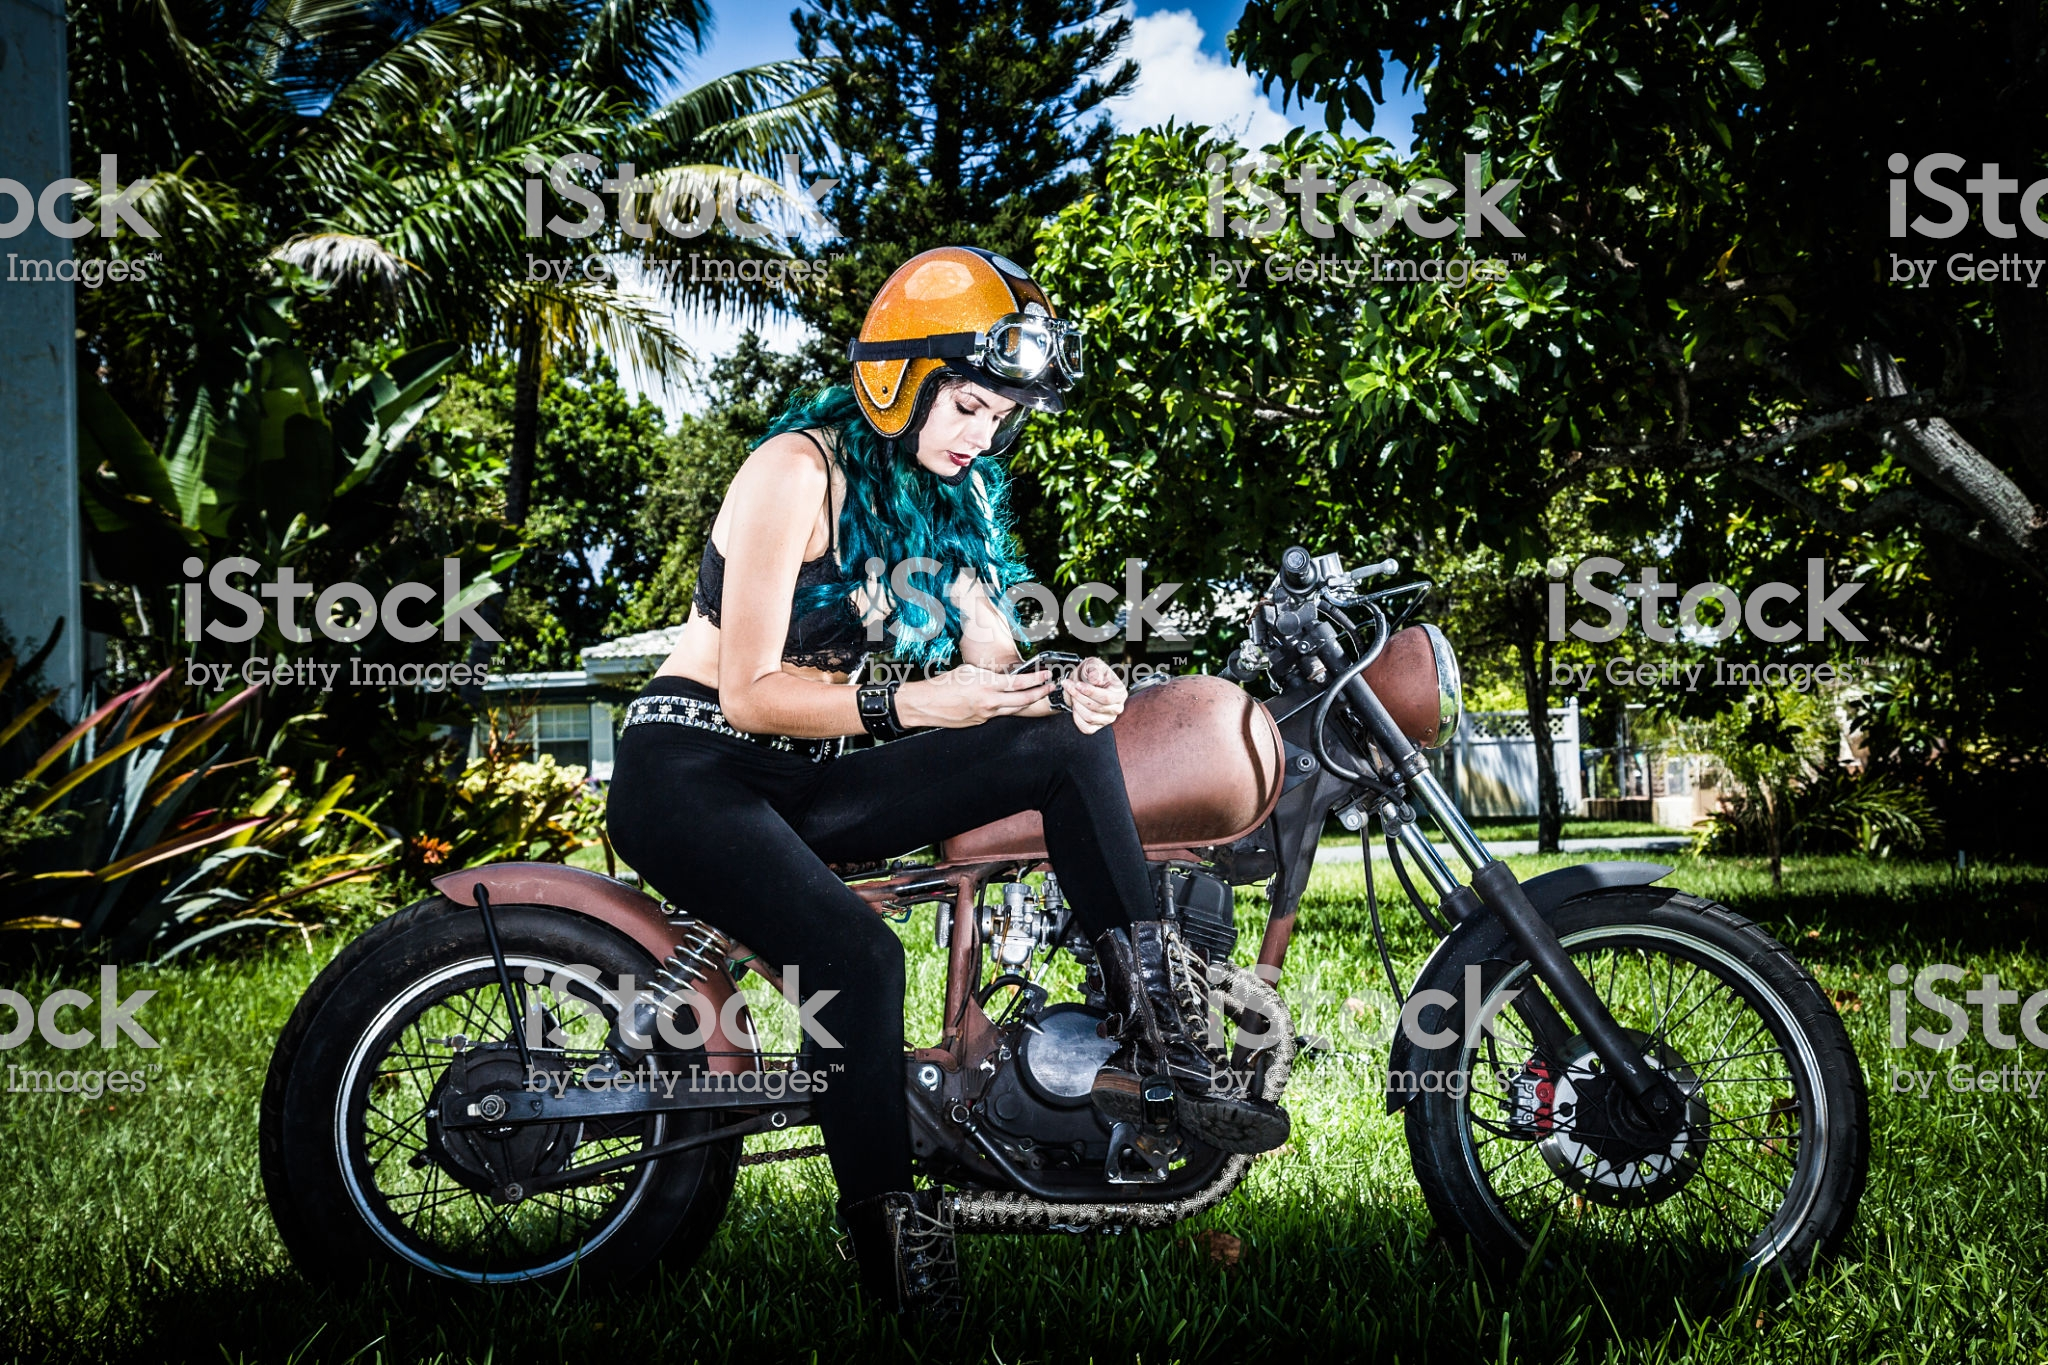helmet: (837, 242, 1063, 436)
